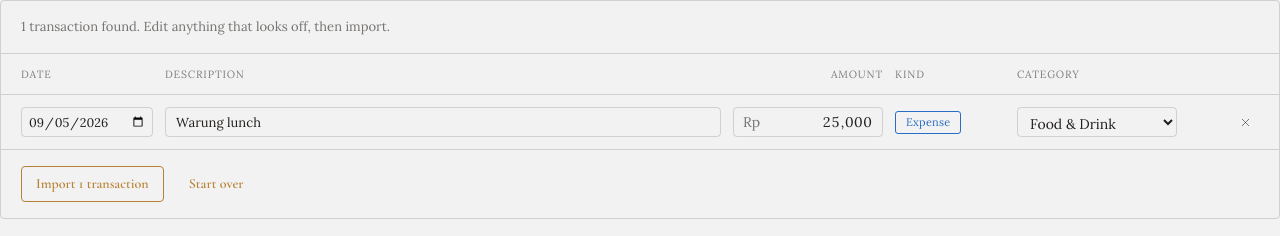
Test: ImportReview kind toggle › switches a row between expense and income
The width and height of the screenshot is (1280, 236).
Click the button with aria-label "Kind: expense".
click(928, 122)  # box [895,111,962,134]
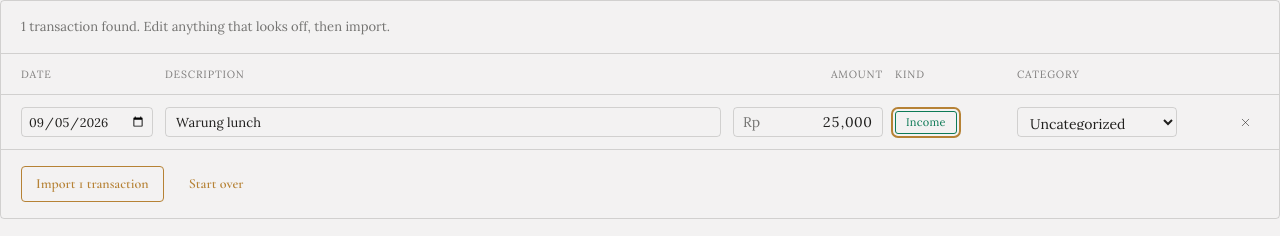
Expected: the button with aria-label "Kind: income" reads "Income", [895,111,957,134]
